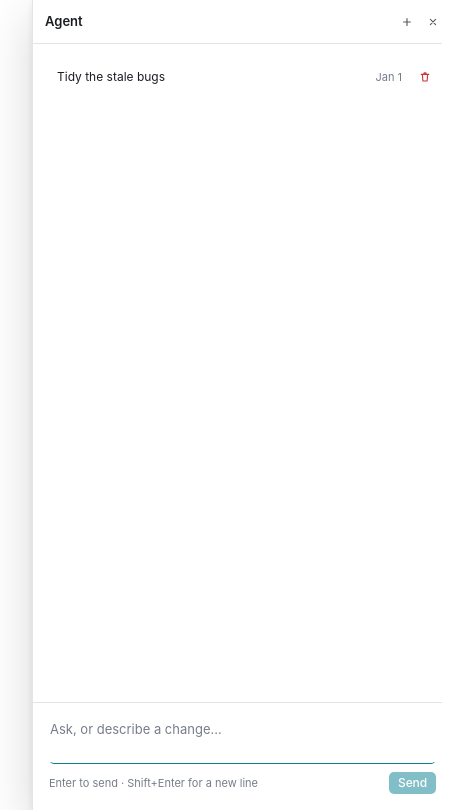
Test: AgentPanel › deletes a conversation, but not on the first press
The width and height of the screenshot is (452, 810).
What coordinates should you click on to do the following:
click the button named "Delete Tidy the stale bugs"
I would click on:
 (425, 77)
Its box is x1=414 y1=66 x2=436 y2=88.
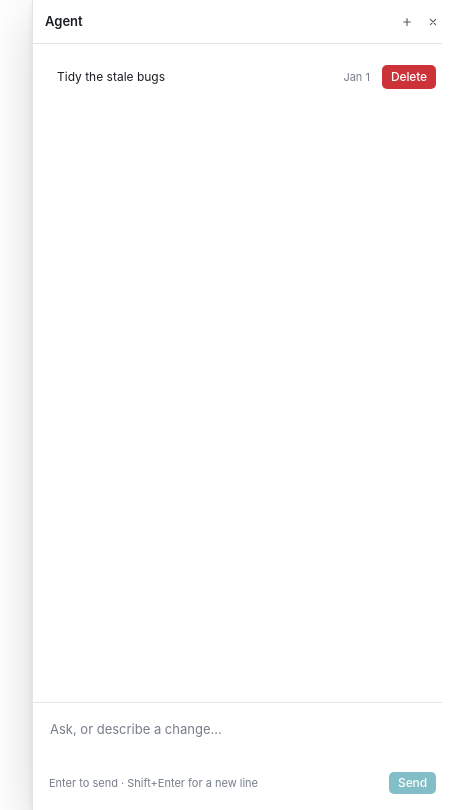
What coordinates should you click on to do the following:
click the button "Delete"
I would click on:
 (409, 77)
Its box is x1=382 y1=65 x2=436 y2=89.
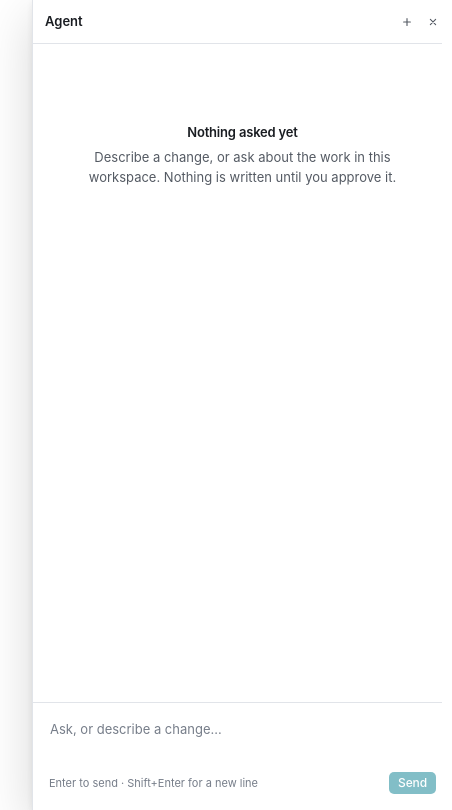
Expected: the button "Tidy the stale bugs" is gone
